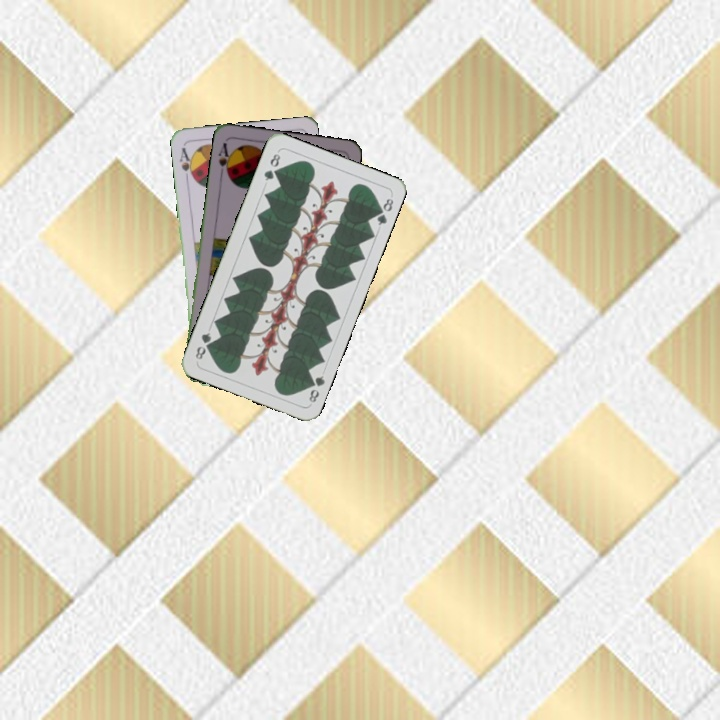G8: (304, 371, 328, 405), (260, 148, 283, 183)
SA: (214, 138, 235, 179), (176, 143, 197, 183)
